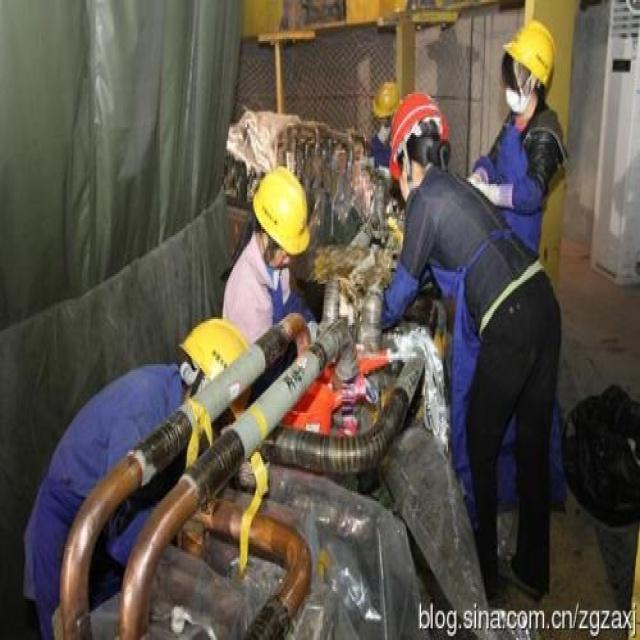helmet: (164, 420, 266, 556), (246, 216, 318, 360), (502, 31, 560, 153), (394, 118, 444, 238), (369, 103, 402, 189)
